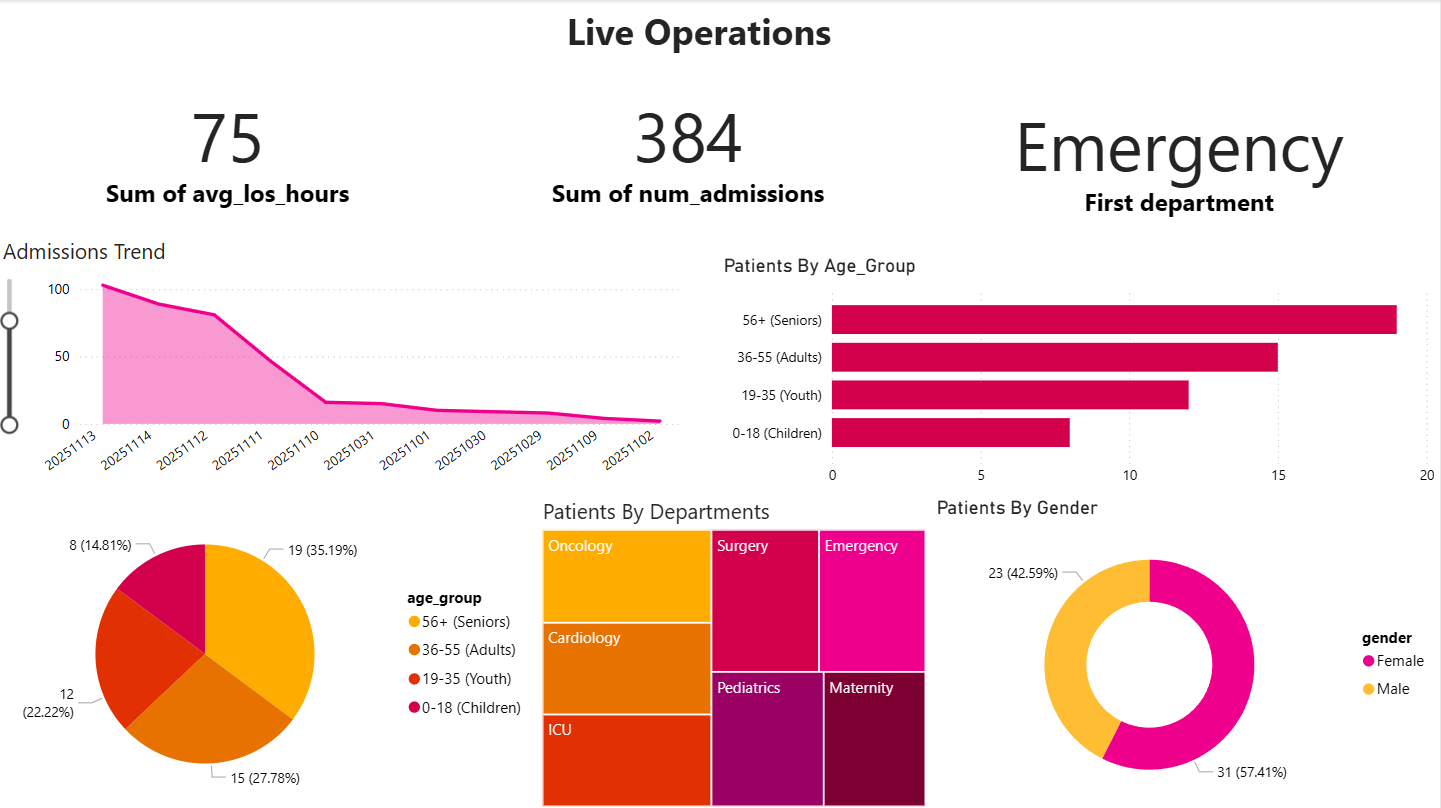

This screenshot's page, from the dashboard's own definition file:
{"tool":"powerbi","page":{"name":"Page 1","canvas":[1280,720],"ordinal":0},"visuals":[{"type":"textbox","box":[499.9,0,280.1,63.2],"z":0},{"type":"card","title":"Overall Avg. Stay (Hours)","fields":{"Values":["Sum(avg_stay_hours_gold.avg_los_hours)"]},"box":[0,53.2,408.8,156.1],"z":1000},{"type":"card","fields":{"Values":["Sum(daily_patients_gold.num_admissions)"]},"box":[408.8,53.2,407.9,156.1],"z":2000},{"type":"card","fields":{"Values":["Min(top_department_gold.department)"]},"box":[817,53.5,463,172.2],"z":3000},{"type":"areaChart","title":"Admissions Trend","fields":{"Category":["daily_patients_gold.date_sk"],"Y":["Sum(daily_patients_gold.num_admissions)"]},"box":[0,209.3,612.7,230.5],"z":4000},{"type":"barChart","title":"Patients By Age_Group","fields":{"Category":["num_patients_by_age_group_gold.age_group"],"Y":["Sum(num_patients_by_age_group_gold.num_patients)"]},"box":[639.3,225.2,640.2,214.6],"z":5000},{"type":"donutChart","title":"Patients By Gender","fields":{"Category":["num_patients_by_gender_gold.gender"],"Y":["Sum(num_patients_by_gender_gold.num_patients)"]},"box":[828.2,439.8,452.2,280.2],"z":6000},{"type":"pieChart","fields":{"Category":["num_patients_by_age_group_gold.age_group"],"Y":["Sum(num_patients_by_age_group_gold.num_patients)"]},"box":[0,439.8,478.8,280.2],"z":7000},{"type":"treemap","title":"Patients By Departments","fields":{"Values":["Sum(length_of_stay_hours_gold.avg_los_hours)"],"Group":["length_of_stay_hours_gold.department"]},"box":[478.8,439.8,349.4,280.2],"z":8000}]}

Visuals, with their boxes in screenshot pixels (x1, y1, x2, y2), scaled from the page's 1280x720 canvas onto the 1441x808 screenshot:
textbox: [x1=563, y1=0, x2=878, y2=71]
"Overall Avg. Stay (Hours)" card: [x1=0, y1=60, x2=460, y2=235]
card - Sum(daily_patients_gold.num_admissions): [x1=460, y1=60, x2=919, y2=235]
card - Min(top_department_gold.department): [x1=920, y1=60, x2=1440, y2=253]
"Admissions Trend" areaChart: [x1=0, y1=235, x2=690, y2=494]
"Patients By Age_Group" barChart: [x1=720, y1=253, x2=1440, y2=494]
"Patients By Gender" donutChart: [x1=932, y1=494, x2=1440, y2=807]
pieChart - num_patients_by_age_group_gold.age_group x Sum(num_patients_by_age_group_gold.num_patients): [x1=0, y1=494, x2=539, y2=807]
"Patients By Departments" treemap: [x1=539, y1=494, x2=932, y2=807]
